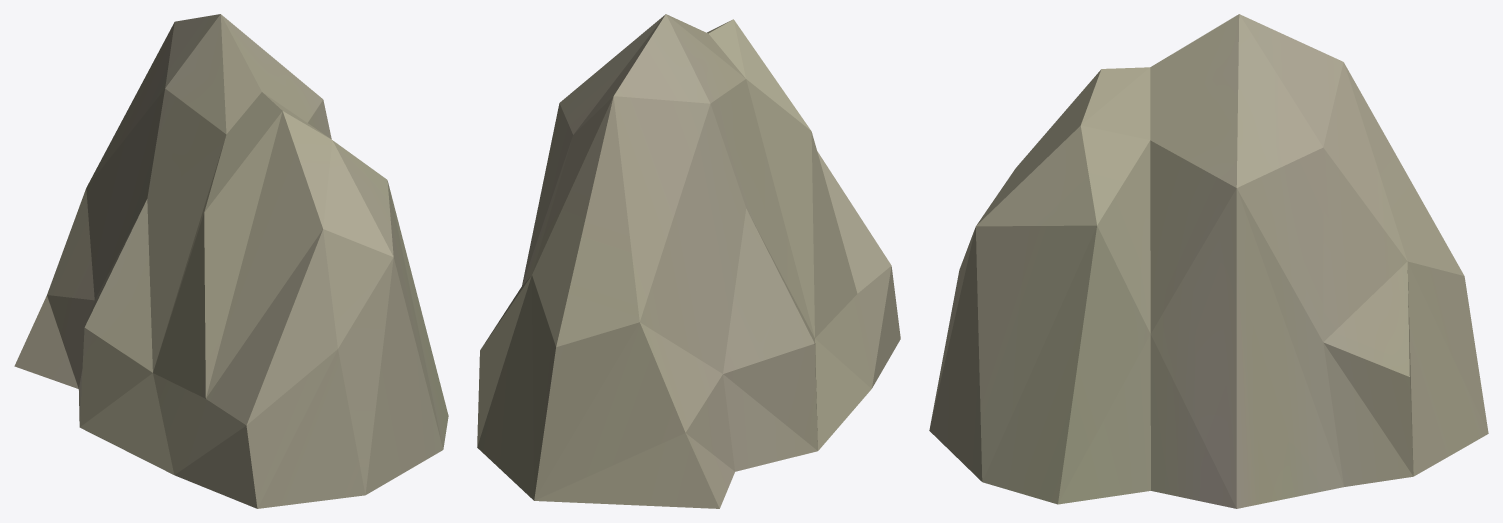
Rendered from mountain002.gltf.
3 views of the same model, side by side, from view 1: azimuth 30°, elevation 25°; view 2: azimuth 150°, elevation 25°; view 3: azimuth 270°, elevation 25° (orthographic). The views are drawn at different scales.
Parts seen in each view (by area): view 1: node_mountain002_-158530; view 2: node_mountain002_-158530; view 3: node_mountain002_-158530.
Part boxes in pixels (x1,y1,x2,y2): node_mountain002_-158530: [14, 14, 448, 508]; node_mountain002_-158530: [477, 14, 900, 508]; node_mountain002_-158530: [929, 14, 1488, 508].
Bounding box in the file's own units: 4.97 × 6.14 × 7.49.
1 material, 1 textured.
